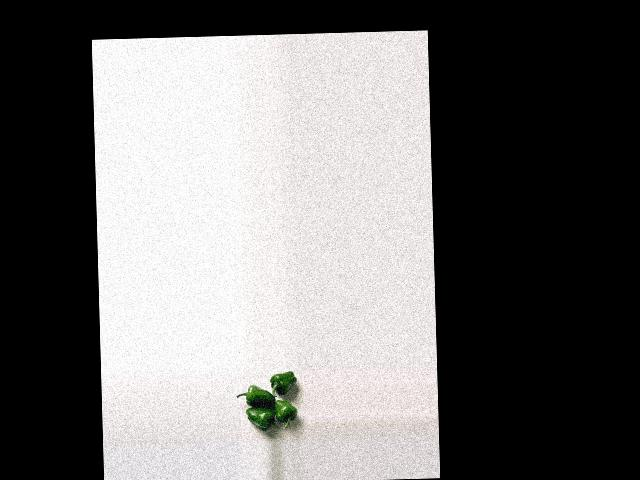bell_pepper: (276, 397, 297, 427)
